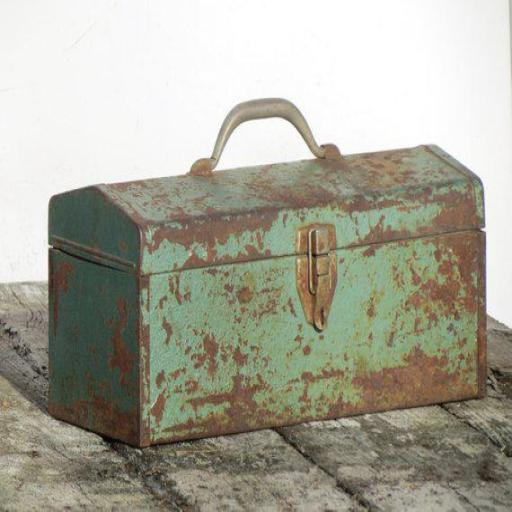corrosion: (400, 159, 510, 274), (341, 333, 473, 421), (406, 256, 477, 327), (356, 134, 413, 175), (287, 215, 321, 255), (359, 222, 405, 249), (360, 394, 364, 397)
